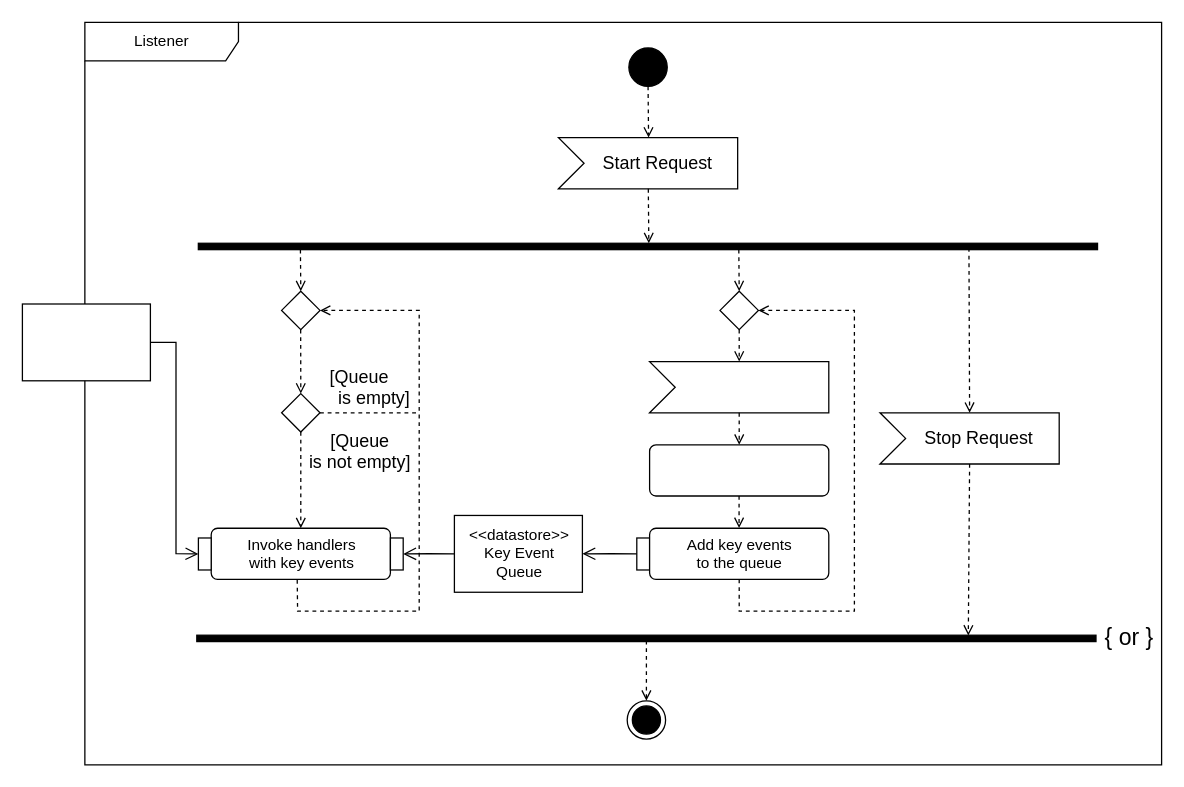
The diagram is 1184 pixels wide and 787 high, and some of its shapes have lost their labels. The shapes that lost their labels are listed below. From the top down, each one's centre as x and y in pixels, then its label:
At point 85,342: "<<datastore>> Handler List".
At point 738,386: "Read Inputs".
At point 738,470: "Parse key string to key events".
